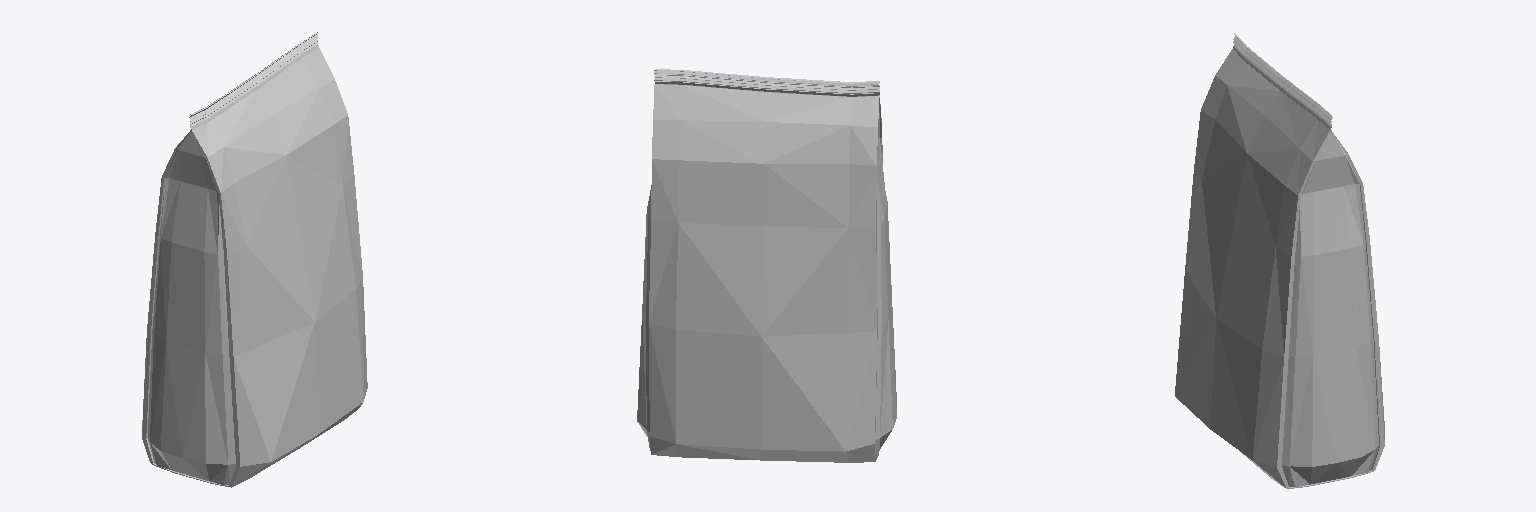
Rendered from Mockup Cat Food_polymsh189.obj.
3 views of the same model, side by side, from view 1: azimuth 30°, elevation 25°; view 2: azimuth 150°, elevation 25°; view 3: azimuth 270°, elevation 25° (orthographic).
Visible parts, largest first — view 1: polymsh189; view 2: polymsh189; view 3: polymsh189.
Boxes of the visible parts, <box> form: polymsh189: <box>142,32,367,487</box>; polymsh189: <box>637,69,896,462</box>; polymsh189: <box>1175,33,1384,488</box>.
Size of the model in its own units: 41.23 by 65.67 by 34.05.